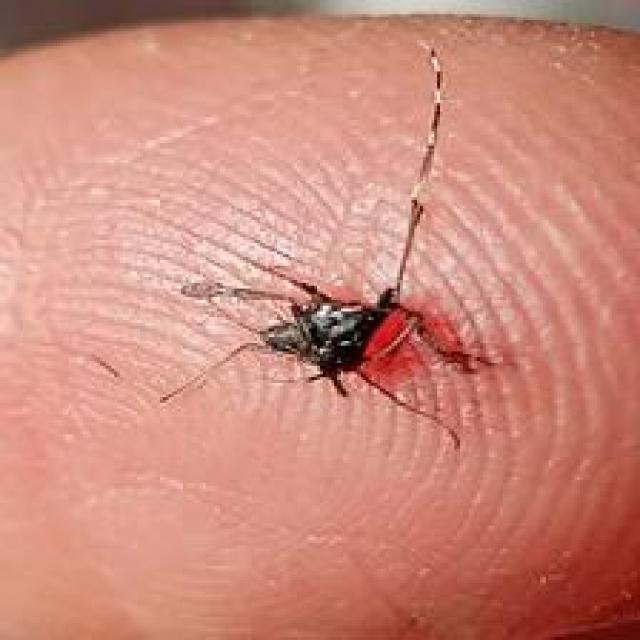Aedes albopictus: (156, 40, 501, 451)
